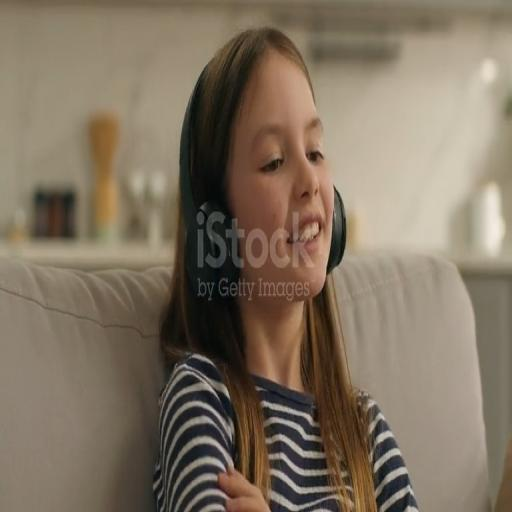earphone: (161, 47, 365, 312)
